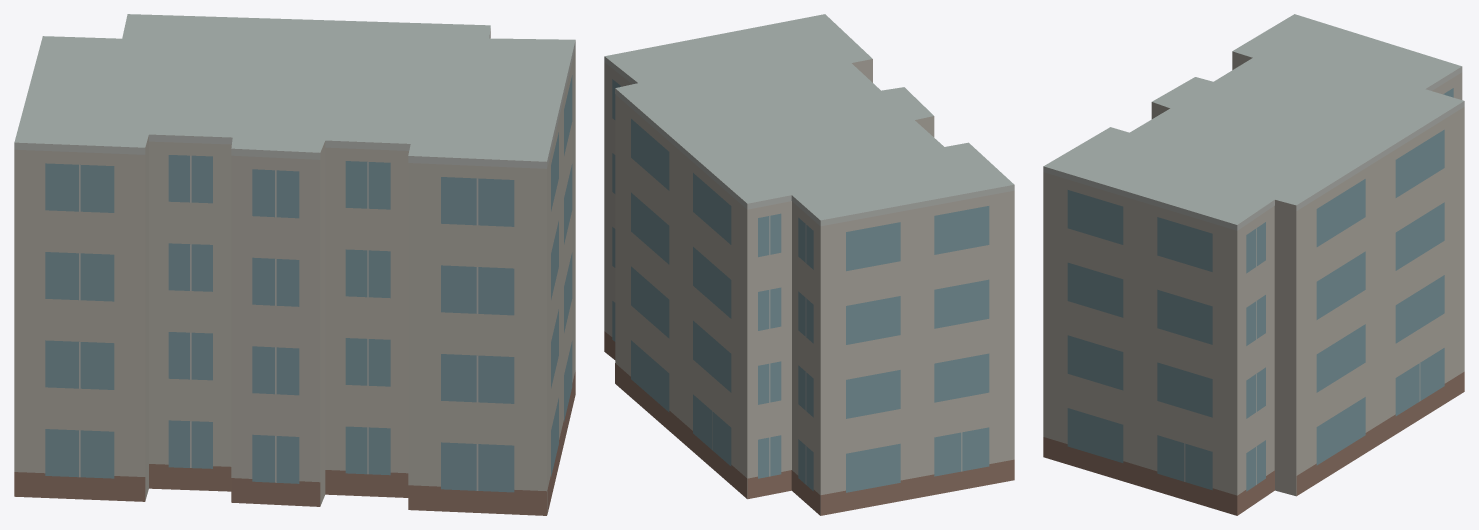
Rendered from survey-upis-32463709.glb.
3 views of the same model, side by side, from view 1: azimuth 30°, elevation 25°; view 2: azimuth 150°, elevation 25°; view 3: azimuth 270°, elevation 25° (orthographic). The views are drawn at different scales.
Parts seen in each view (by area): view 1: survey-upis-32463709.tmp; view 2: survey-upis-32463709.tmp; view 3: survey-upis-32463709.tmp.
Boxes of the visible parts, <box> form: survey-upis-32463709.tmp: <box>14,14,575,515</box>; survey-upis-32463709.tmp: <box>604,14,1014,515</box>; survey-upis-32463709.tmp: <box>1043,14,1464,515</box>.
Size of the model in its own units: 18.99 by 12.2 by 16.02.
